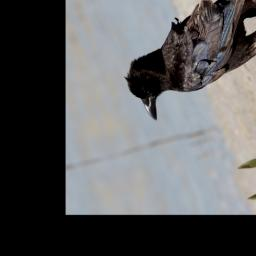Crow: (104, 0, 256, 127)
